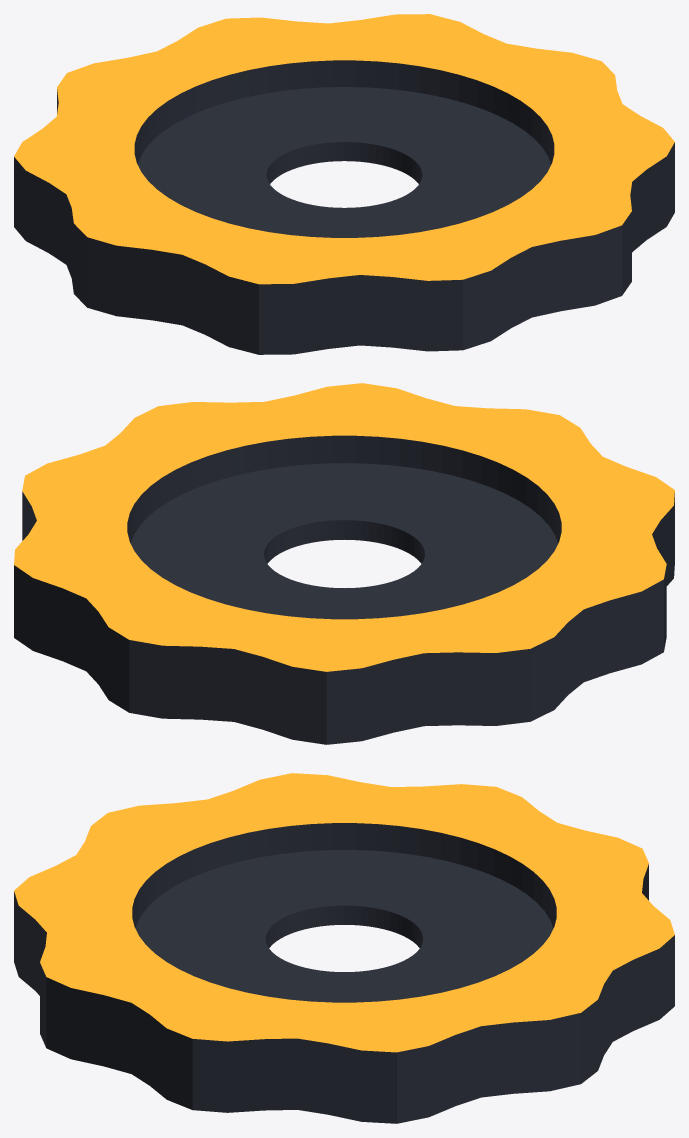
Rendered from gear_low.glb.
3 views of the same model, one above another, from view 1: azimuth 30°, elevation 25°; view 2: azimuth 150°, elevation 25°; view 3: azimuth 270°, elevation 25° (orthographic). The views are drawn at different scales.
Parts seen in each view (by area): view 1: GEO_gear_low_BODY, GEO_gear_low_NSS_V1_COLLAR; view 2: GEO_gear_low_BODY, GEO_gear_low_NSS_V1_COLLAR; view 3: GEO_gear_low_BODY, GEO_gear_low_NSS_V1_COLLAR.
Boxes of the visible parts, x1,y1,x2,y2 form: GEO_gear_low_BODY: (14, 14, 674, 354); GEO_gear_low_NSS_V1_COLLAR: (137, 87, 551, 237); GEO_gear_low_BODY: (14, 383, 674, 744); GEO_gear_low_NSS_V1_COLLAR: (130, 463, 558, 619); GEO_gear_low_BODY: (14, 773, 674, 1123); GEO_gear_low_NSS_V1_COLLAR: (135, 850, 553, 1002).
Bounding box in the file's own units: 0.0336 × 0.004 × 0.0336.
